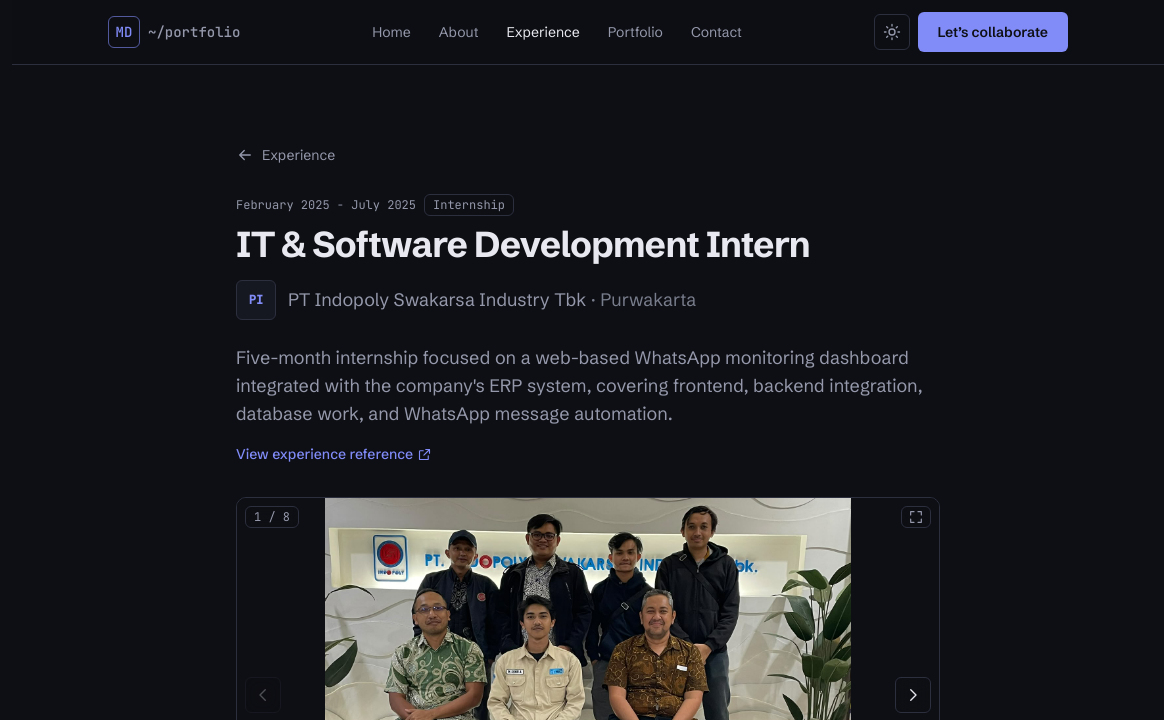
Test case: Experience › detail page: info first, then gallery, lists and related project; back goes to the Experience section
Check: the heading reads "IT & Software Development Intern", box [236,222,810,266]
Check: the text "PT Indopoly Swakarsa Industry Tbk" is shown, box [288,288,586,311]
Click the 2nd link "Experience".
click(286, 155)  # box [236,145,335,165]
(page scrolled)
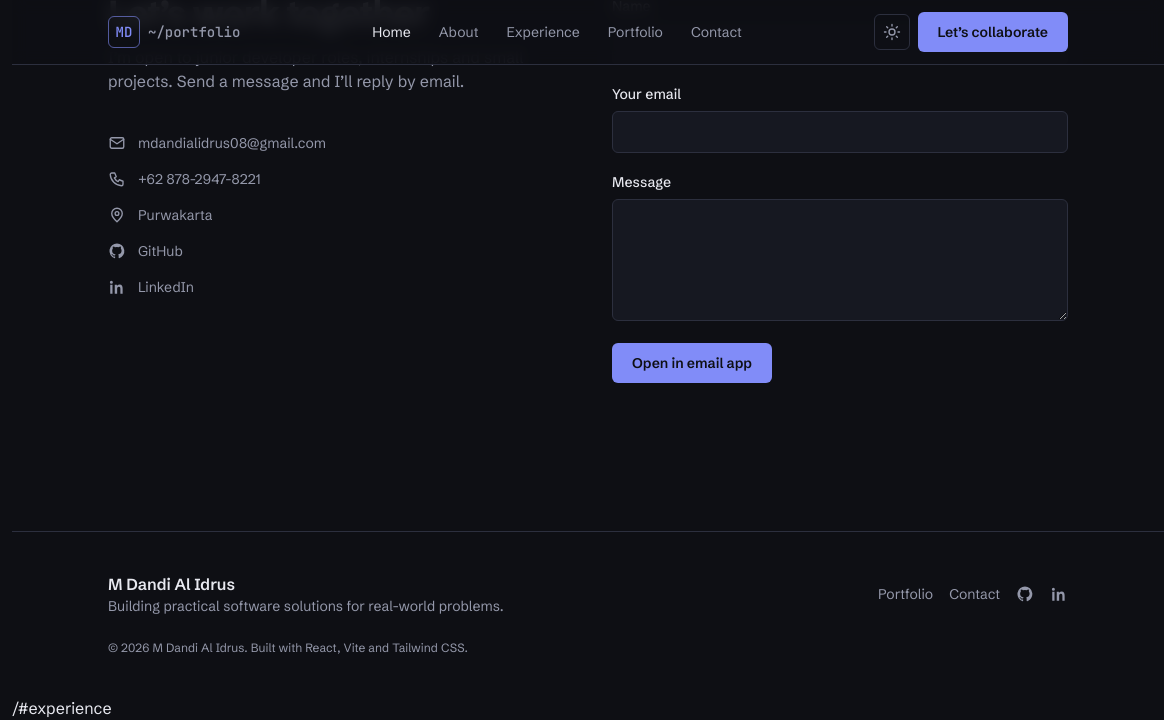
Check: the text with test id "loc" reads "/#experience", box [12,698,112,718]
